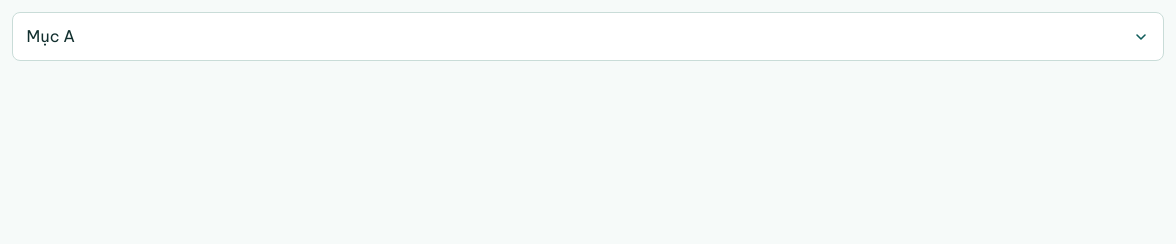
Test: Select tự vẽ › mở danh sách, chọn bằng chuột và bằng bàn phím, gọi onChange với e.target.value
This screenshot has width=1176, height=244.
Click the dropdown named "Vai trò" at (51, 36), box x1=12 y1=12 x2=1164 y2=61
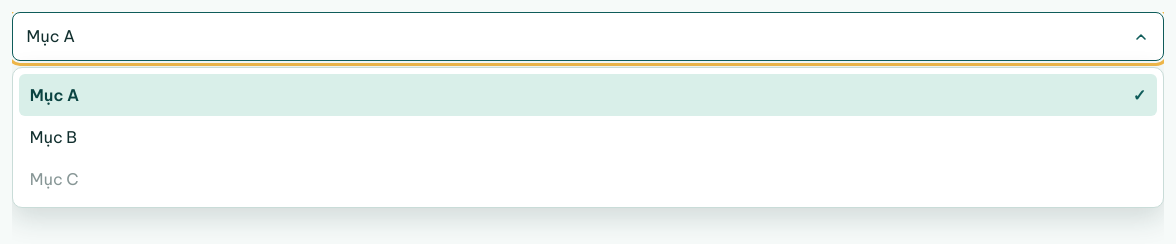
Result: the list is shown at x1=12 y1=67 x2=1164 y2=208
Click the option "Mục B" at (54, 137), box x1=30 y1=127 x2=77 y2=147
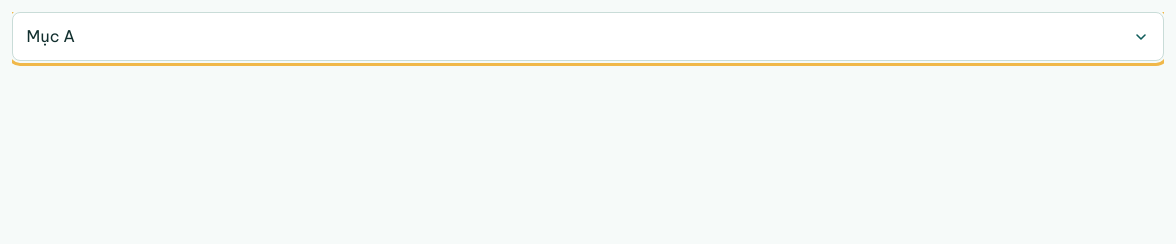
Result: the list is gone
Click the dropdown named "Vai trò" at (51, 36), box x1=12 y1=12 x2=1164 y2=61
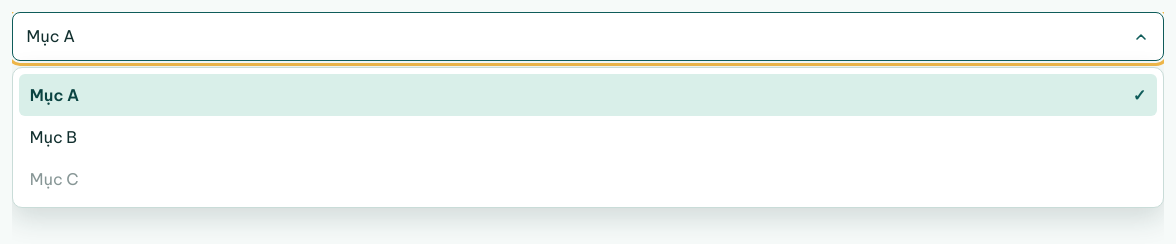
Press Arrowdown Enter
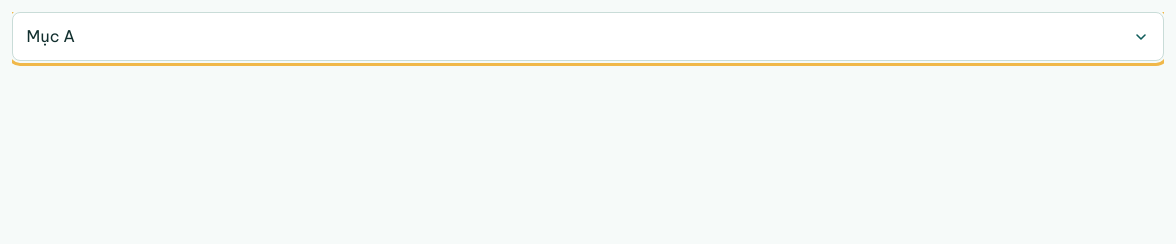
Click the dropdown named "Vai trò" at (51, 36), box x1=12 y1=12 x2=1164 y2=61
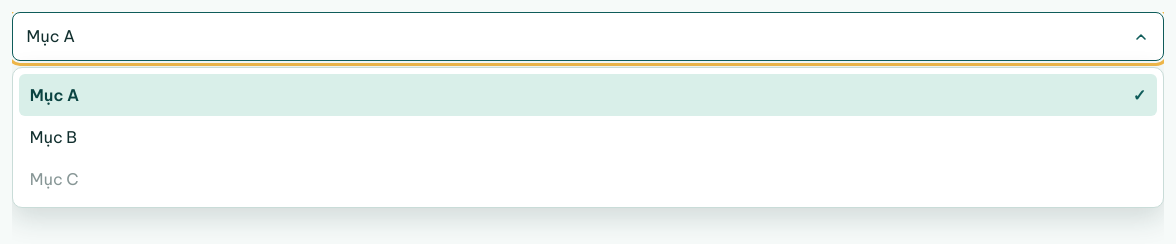
Press Escape
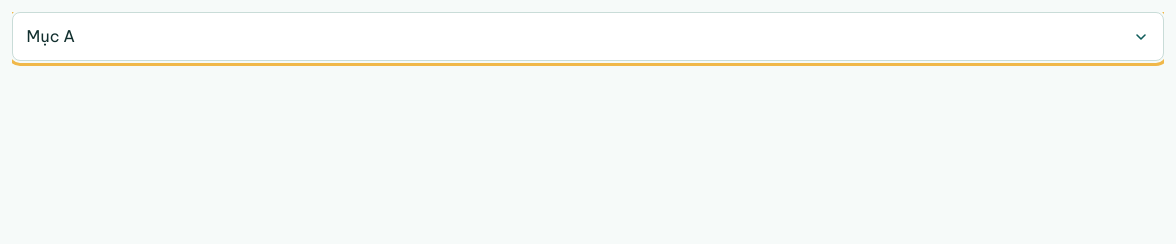
Result: the list is gone
